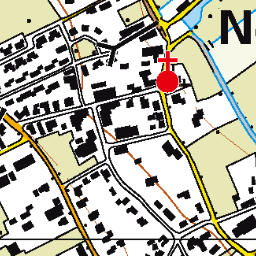church: (154, 49, 182, 97)
